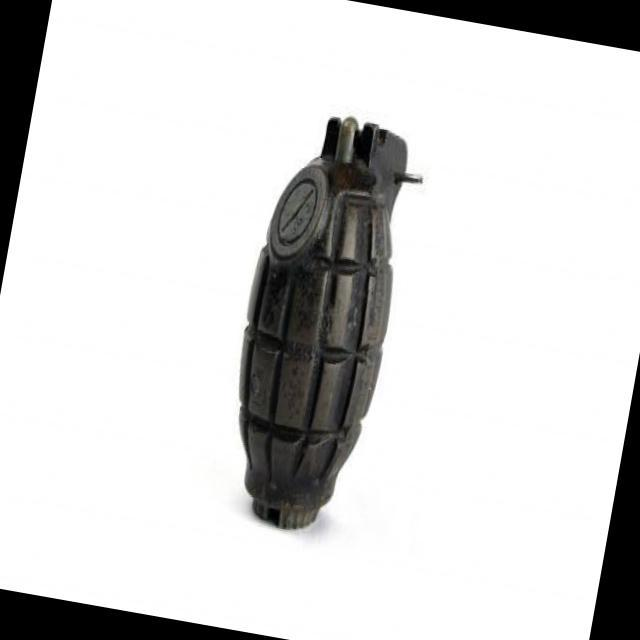grenade: (200, 94, 432, 543)
